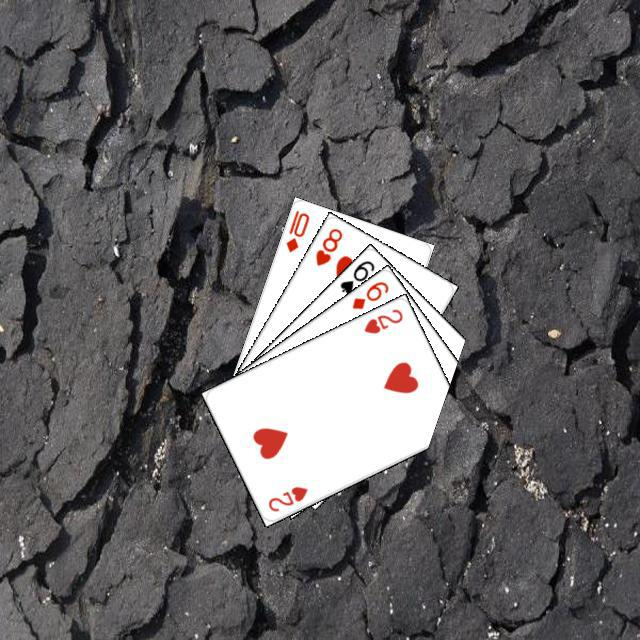10d: (281, 205, 311, 254)
2h: (263, 481, 310, 513), (359, 304, 405, 336)
6d: (347, 276, 390, 311)
6s: (335, 256, 376, 296)
8h: (310, 223, 344, 268)
